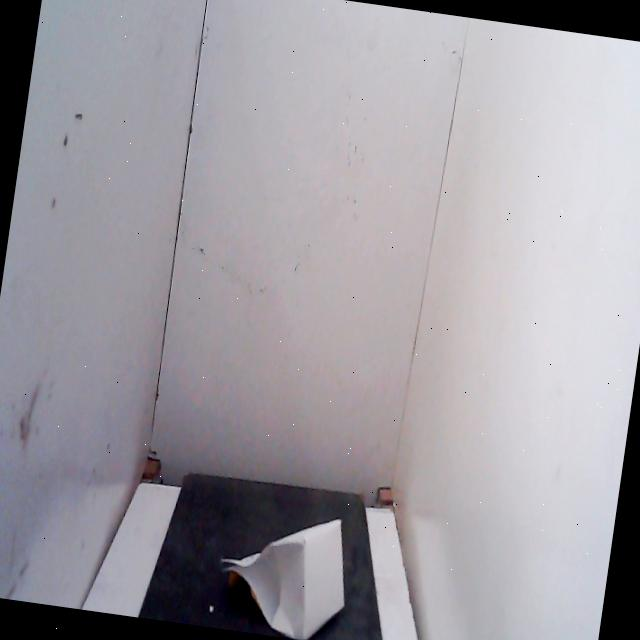paper: (206, 488, 367, 640)
